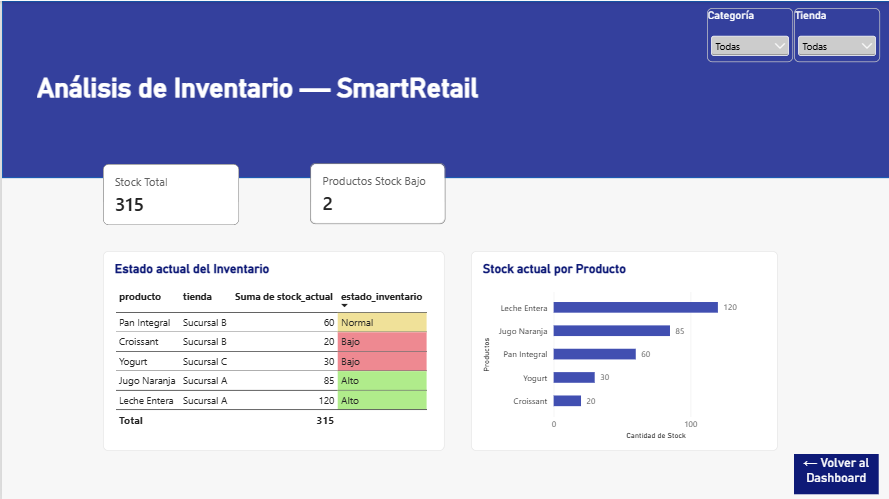

The dashboard page shown, as its layout file describes it:
{"tool":"powerbi","page":{"name":"Rep2_Análisis de Inventario","canvas":[1280,720],"ordinal":1},"visuals":[{"type":"shape","box":[0,0,1280,255],"z":0},{"type":"textbox","title":"Análisis de Inventario — SmartRetail","box":[50,102.9,1214.3,78.6],"z":1000},{"type":"tableEx","title":"Estado actual del Inventario","fields":{"Values":["DimProducto.producto","inventario.tienda","Sum(inventario.stock_actual)","inventario.estado_inventario"]},"box":[145.4,360,492.5,288],"z":2000},{"type":"clusteredBarChart","title":"Stock actual por Producto","fields":{"Category":["DimProducto.producto"],"Y":["Sum(inventario.stock_actual)"]},"box":[676,360,441.7,288.3],"z":3000},{"type":"slicer","title":"Categoría","fields":{"Values":["DimProducto.categoria"]},"box":[1015,10,124,78],"z":4000},{"type":"cardVisual","title":"Stock Total","fields":{"Data":["inventario.Stock Total"]},"box":[146,234,196,88],"z":5000},{"type":"cardVisual","fields":{"Data":["inventario.Productos Stock Bajo"]},"box":[443.3,233.3,195,88.3],"z":6000},{"type":"actionButton","title":"← Volver al Dashboard","box":[1140,651.7,121.7,68.3],"z":7000},{"type":"slicer","title":"Tienda","fields":{"Values":["DimTienda.tienda"]},"box":[1140,10,124,78],"z":9000}]}

Visuals, with their boxes in screenshot pixels (x1, y1, x2, y2), scaled from the page's 1280x720 canvas onto the 889x499 screenshot:
shape: [0,0,888,177]
"Análisis de Inventario — SmartRetail" textbox: [35,71,878,126]
"Estado actual del Inventario" tableEx: [101,250,443,449]
"Stock actual por Producto" clusteredBarChart: [470,250,776,449]
"Categoría" slicer: [705,7,791,61]
"Stock Total" cardVisual: [101,162,238,223]
cardVisual - inventario.Productos Stock Bajo: [308,162,443,223]
"← Volver al Dashboard" actionButton: [792,452,876,498]
"Tienda" slicer: [792,7,878,61]
